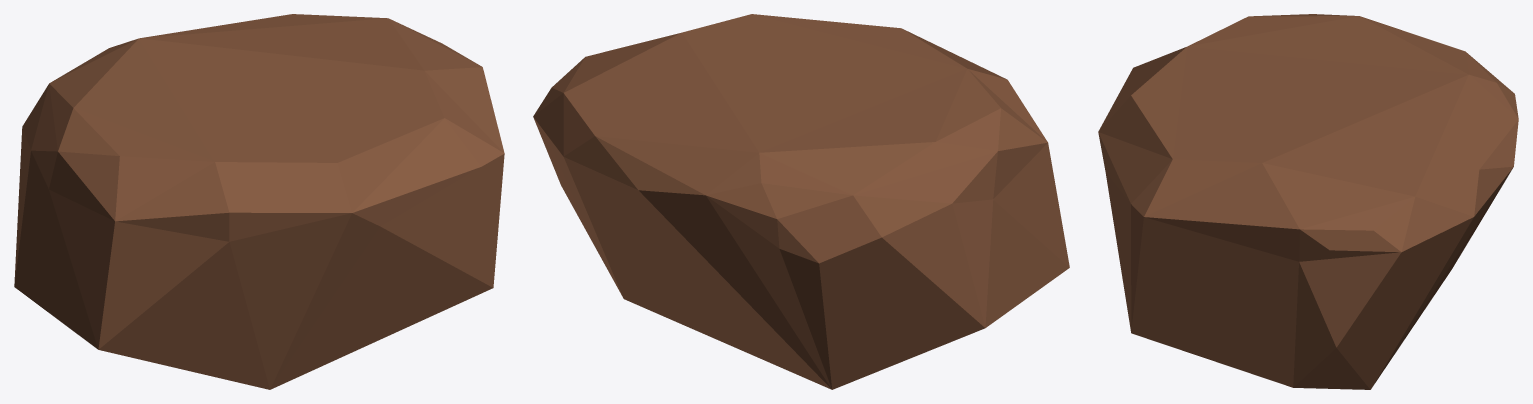
File: SM_Env_RockFlat_01.glb
3 views of the same model, side by side, from view 1: azimuth 30°, elevation 25°; view 2: azimuth 150°, elevation 25°; view 3: azimuth 270°, elevation 25° (orthographic).
Parts seen in each view (by area): view 1: SM_Env_RockFlat_01; view 2: SM_Env_RockFlat_01; view 3: SM_Env_RockFlat_01.
Part boxes in pixels (bbox=[...]): SM_Env_RockFlat_01: bbox=[14, 14, 504, 389]; SM_Env_RockFlat_01: bbox=[533, 14, 1069, 389]; SM_Env_RockFlat_01: bbox=[1098, 14, 1518, 389].
Bounding box in the file's own units: 2.44 × 1.21 × 2.03.
1 material, 1 textured.
